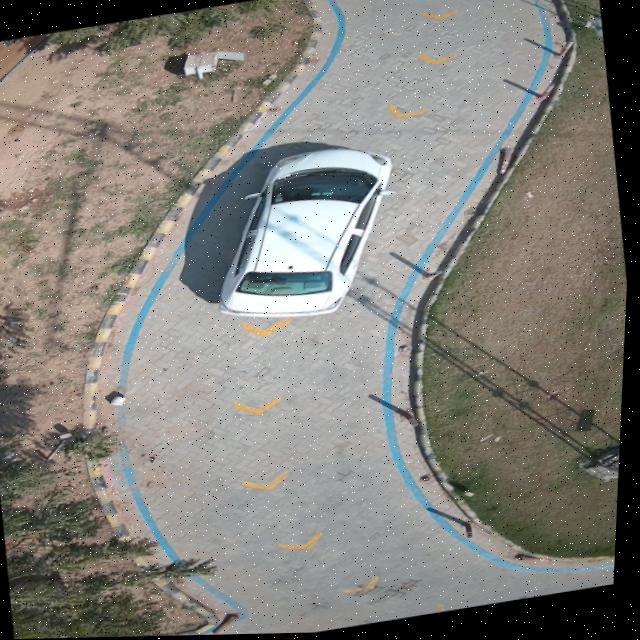car: (223, 150, 392, 319)
